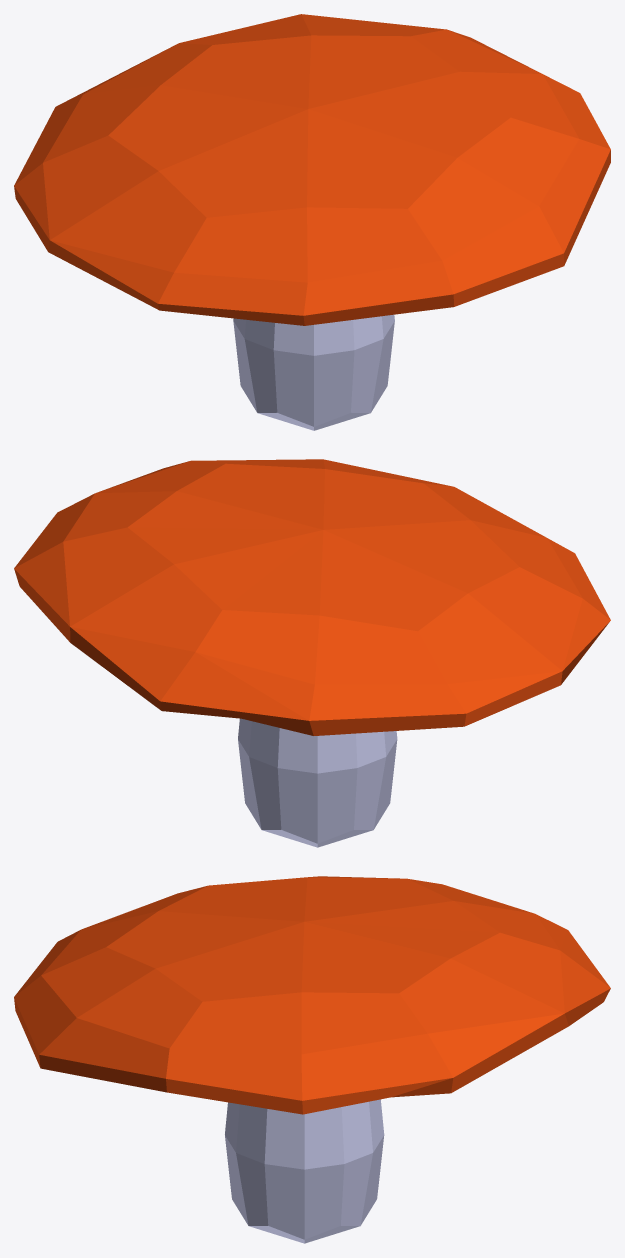
Rendered from Grzyb1v1.fbx.
3 views of the same model, one above another, from view 1: azimuth 30°, elevation 25°; view 2: azimuth 150°, elevation 25°; view 3: azimuth 270°, elevation 25° (orthographic).
Parts seen in each view (by area): view 1: Walec.001, Walec; view 2: Walec.001, Walec; view 3: Walec.001, Walec.
Part boxes in pixels (x1=…): Walec.001: x1=14, y1=14, x2=610, y2=325; Walec: x1=233, y1=314, x2=394, y2=430; Walec.001: x1=14, y1=459, x2=610, y2=735; Walec: x1=238, y1=718, x2=397, y2=847; Walec.001: x1=14, y1=876, x2=610, y2=1114; Walec: x1=225, y1=1099, x2=384, y2=1243.
Bounding box in the file's own units: 304 × 181 × 305.
